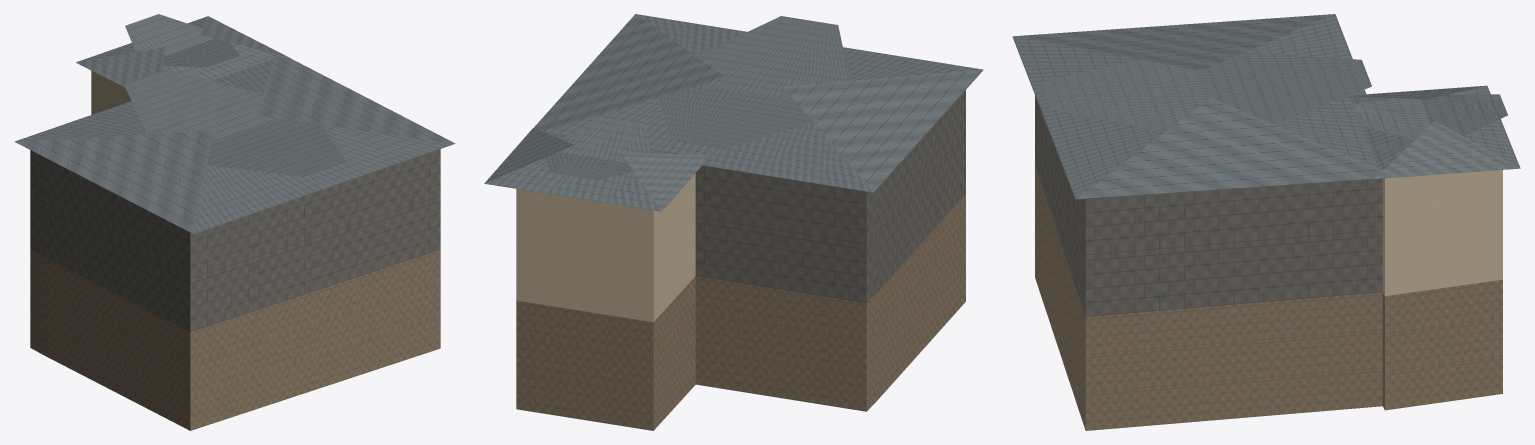
The model's file is bld_c43_48_186.gltf.
3 renders of one model, left to right at view 1: azimuth 30°, elevation 25°; view 2: azimuth 150°, elevation 25°; view 3: azimuth 270°, elevation 25°, orthographic. The views are drawn at different scales.
Visible parts, largest first — view 1: bld_c43_48_186; view 2: bld_c43_48_186; view 3: bld_c43_48_186.
Part boxes in pixels (x1,y1,x2,y2): bld_c43_48_186: (14,14,455,430); bld_c43_48_186: (484,14,983,430); bld_c43_48_186: (1012,14,1520,430).
Bounding box in the file's own units: 17.77 × 11.6 × 20.57.
Materials: 4 (4 with a texture image).
